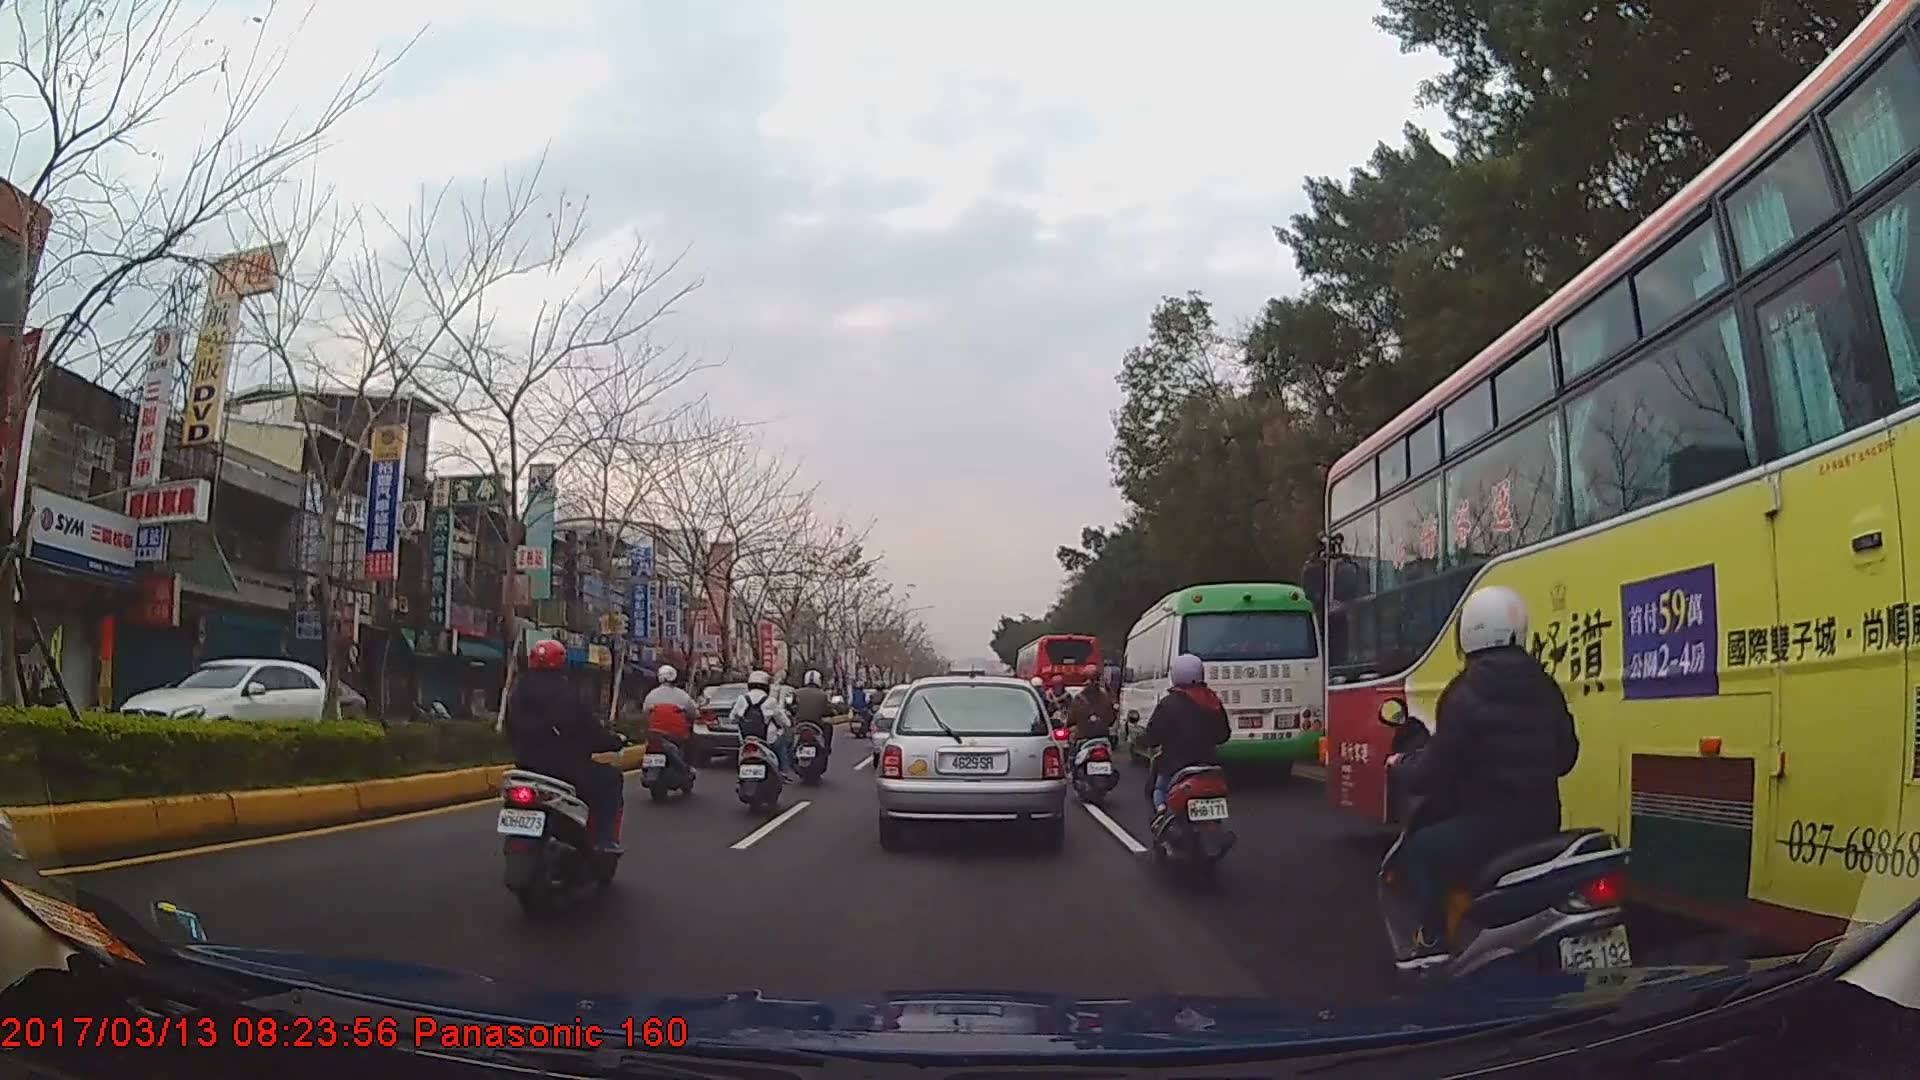rider: (1373, 582, 1645, 994), (499, 635, 625, 917), (1144, 650, 1248, 894), (640, 665, 705, 805), (730, 669, 791, 815), (1066, 666, 1119, 794), (789, 669, 838, 786), (869, 681, 890, 731), (850, 682, 872, 722)
vehicle: (1320, 0, 1919, 974), (1117, 582, 1324, 777), (878, 673, 1063, 843), (112, 651, 347, 764), (1015, 629, 1103, 737), (690, 684, 775, 760)
